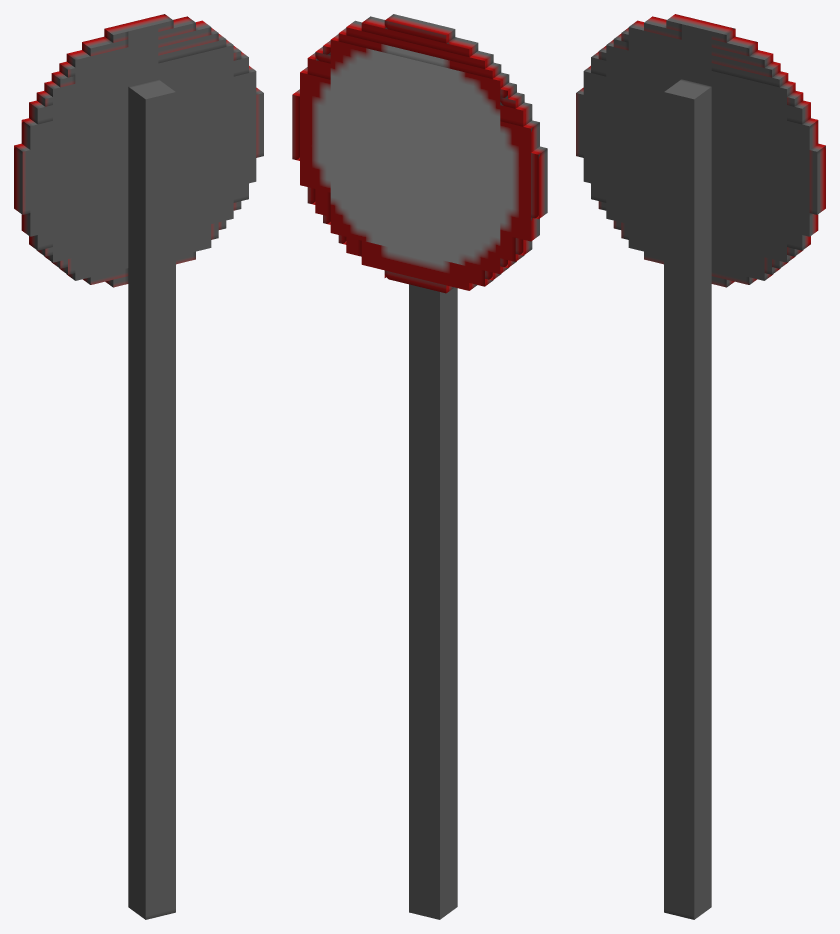
3 renders of one model, left to right at view 1: azimuth 30°, elevation 25°; view 2: azimuth 150°, elevation 25°; view 3: azimuth 330°, elevation 25°, orthographic. The views are drawn at different scales.
Parts seen in each view (by area): view 1: Content; view 2: Content; view 3: Content.
Part boxes in pixels (x1=…): Content: x1=14, y1=14, x2=263, y2=919; Content: x1=292, y1=14, x2=547, y2=919; Content: x1=576, y1=14, x2=825, y2=919.
Size of the model in its own units: 32 by 111 by 6.
Materials: 1 (1 with a texture image).
